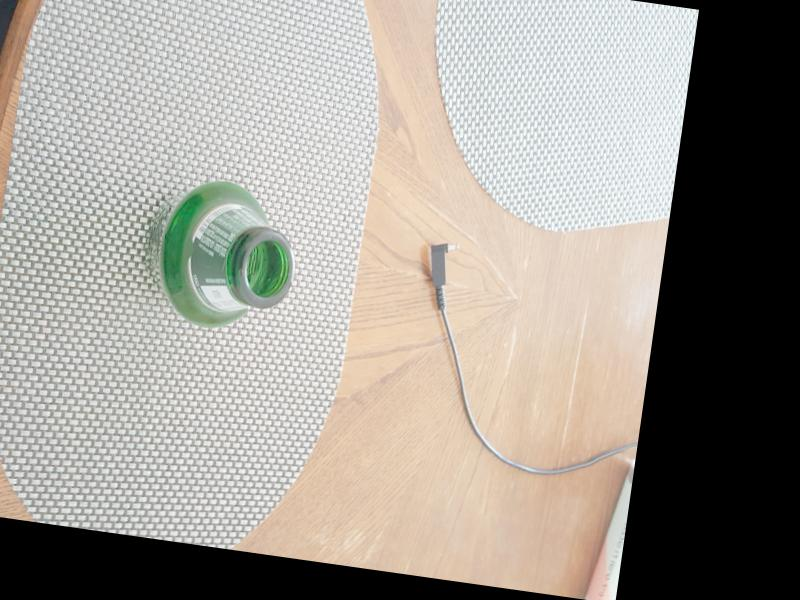Beer: (138, 178, 302, 329)
